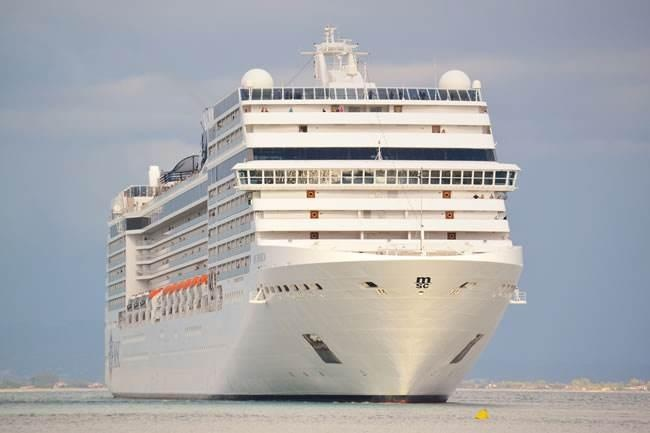youlun: (101, 18, 526, 403)
